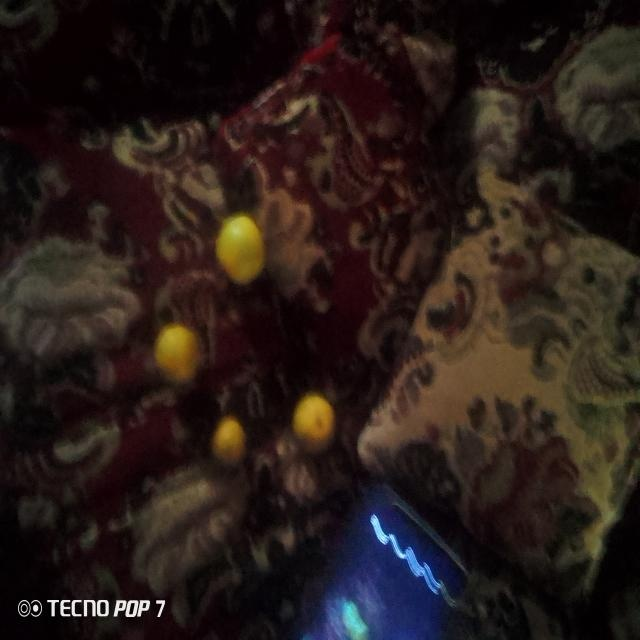agrume: (206, 200, 265, 294), (145, 321, 209, 387), (290, 389, 338, 467), (208, 413, 246, 477)
